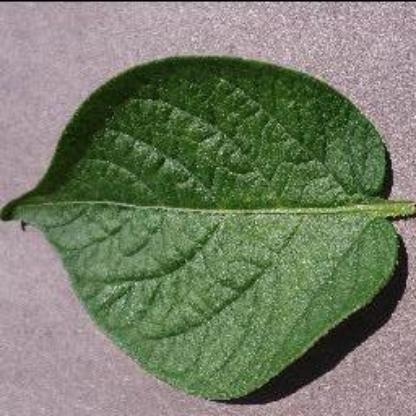Healthy-plant: (0, 48, 416, 404)
